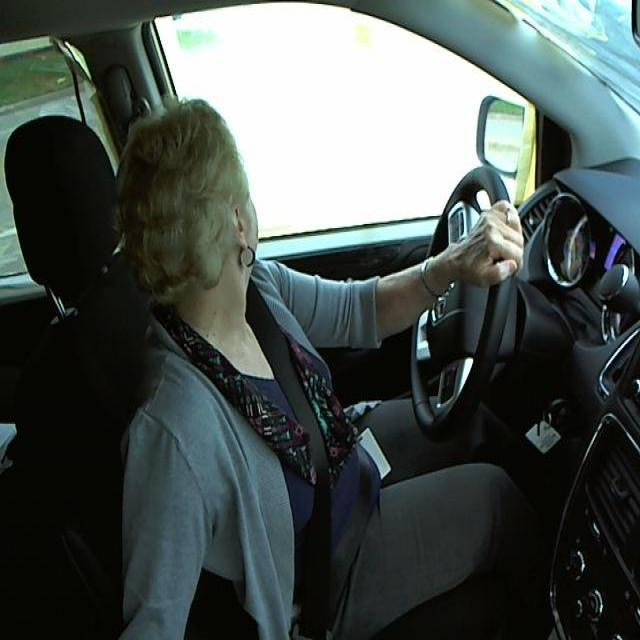seatbelt: (262, 298, 346, 594)
